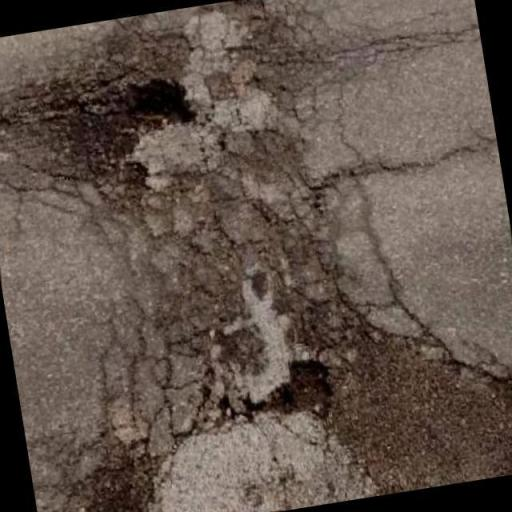pothole: (246, 359, 332, 420), (127, 77, 196, 129)
